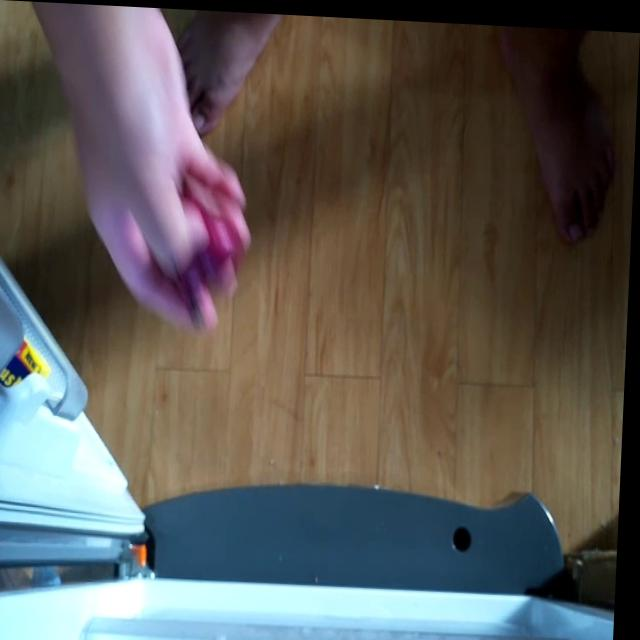onion: (160, 193, 246, 331)
